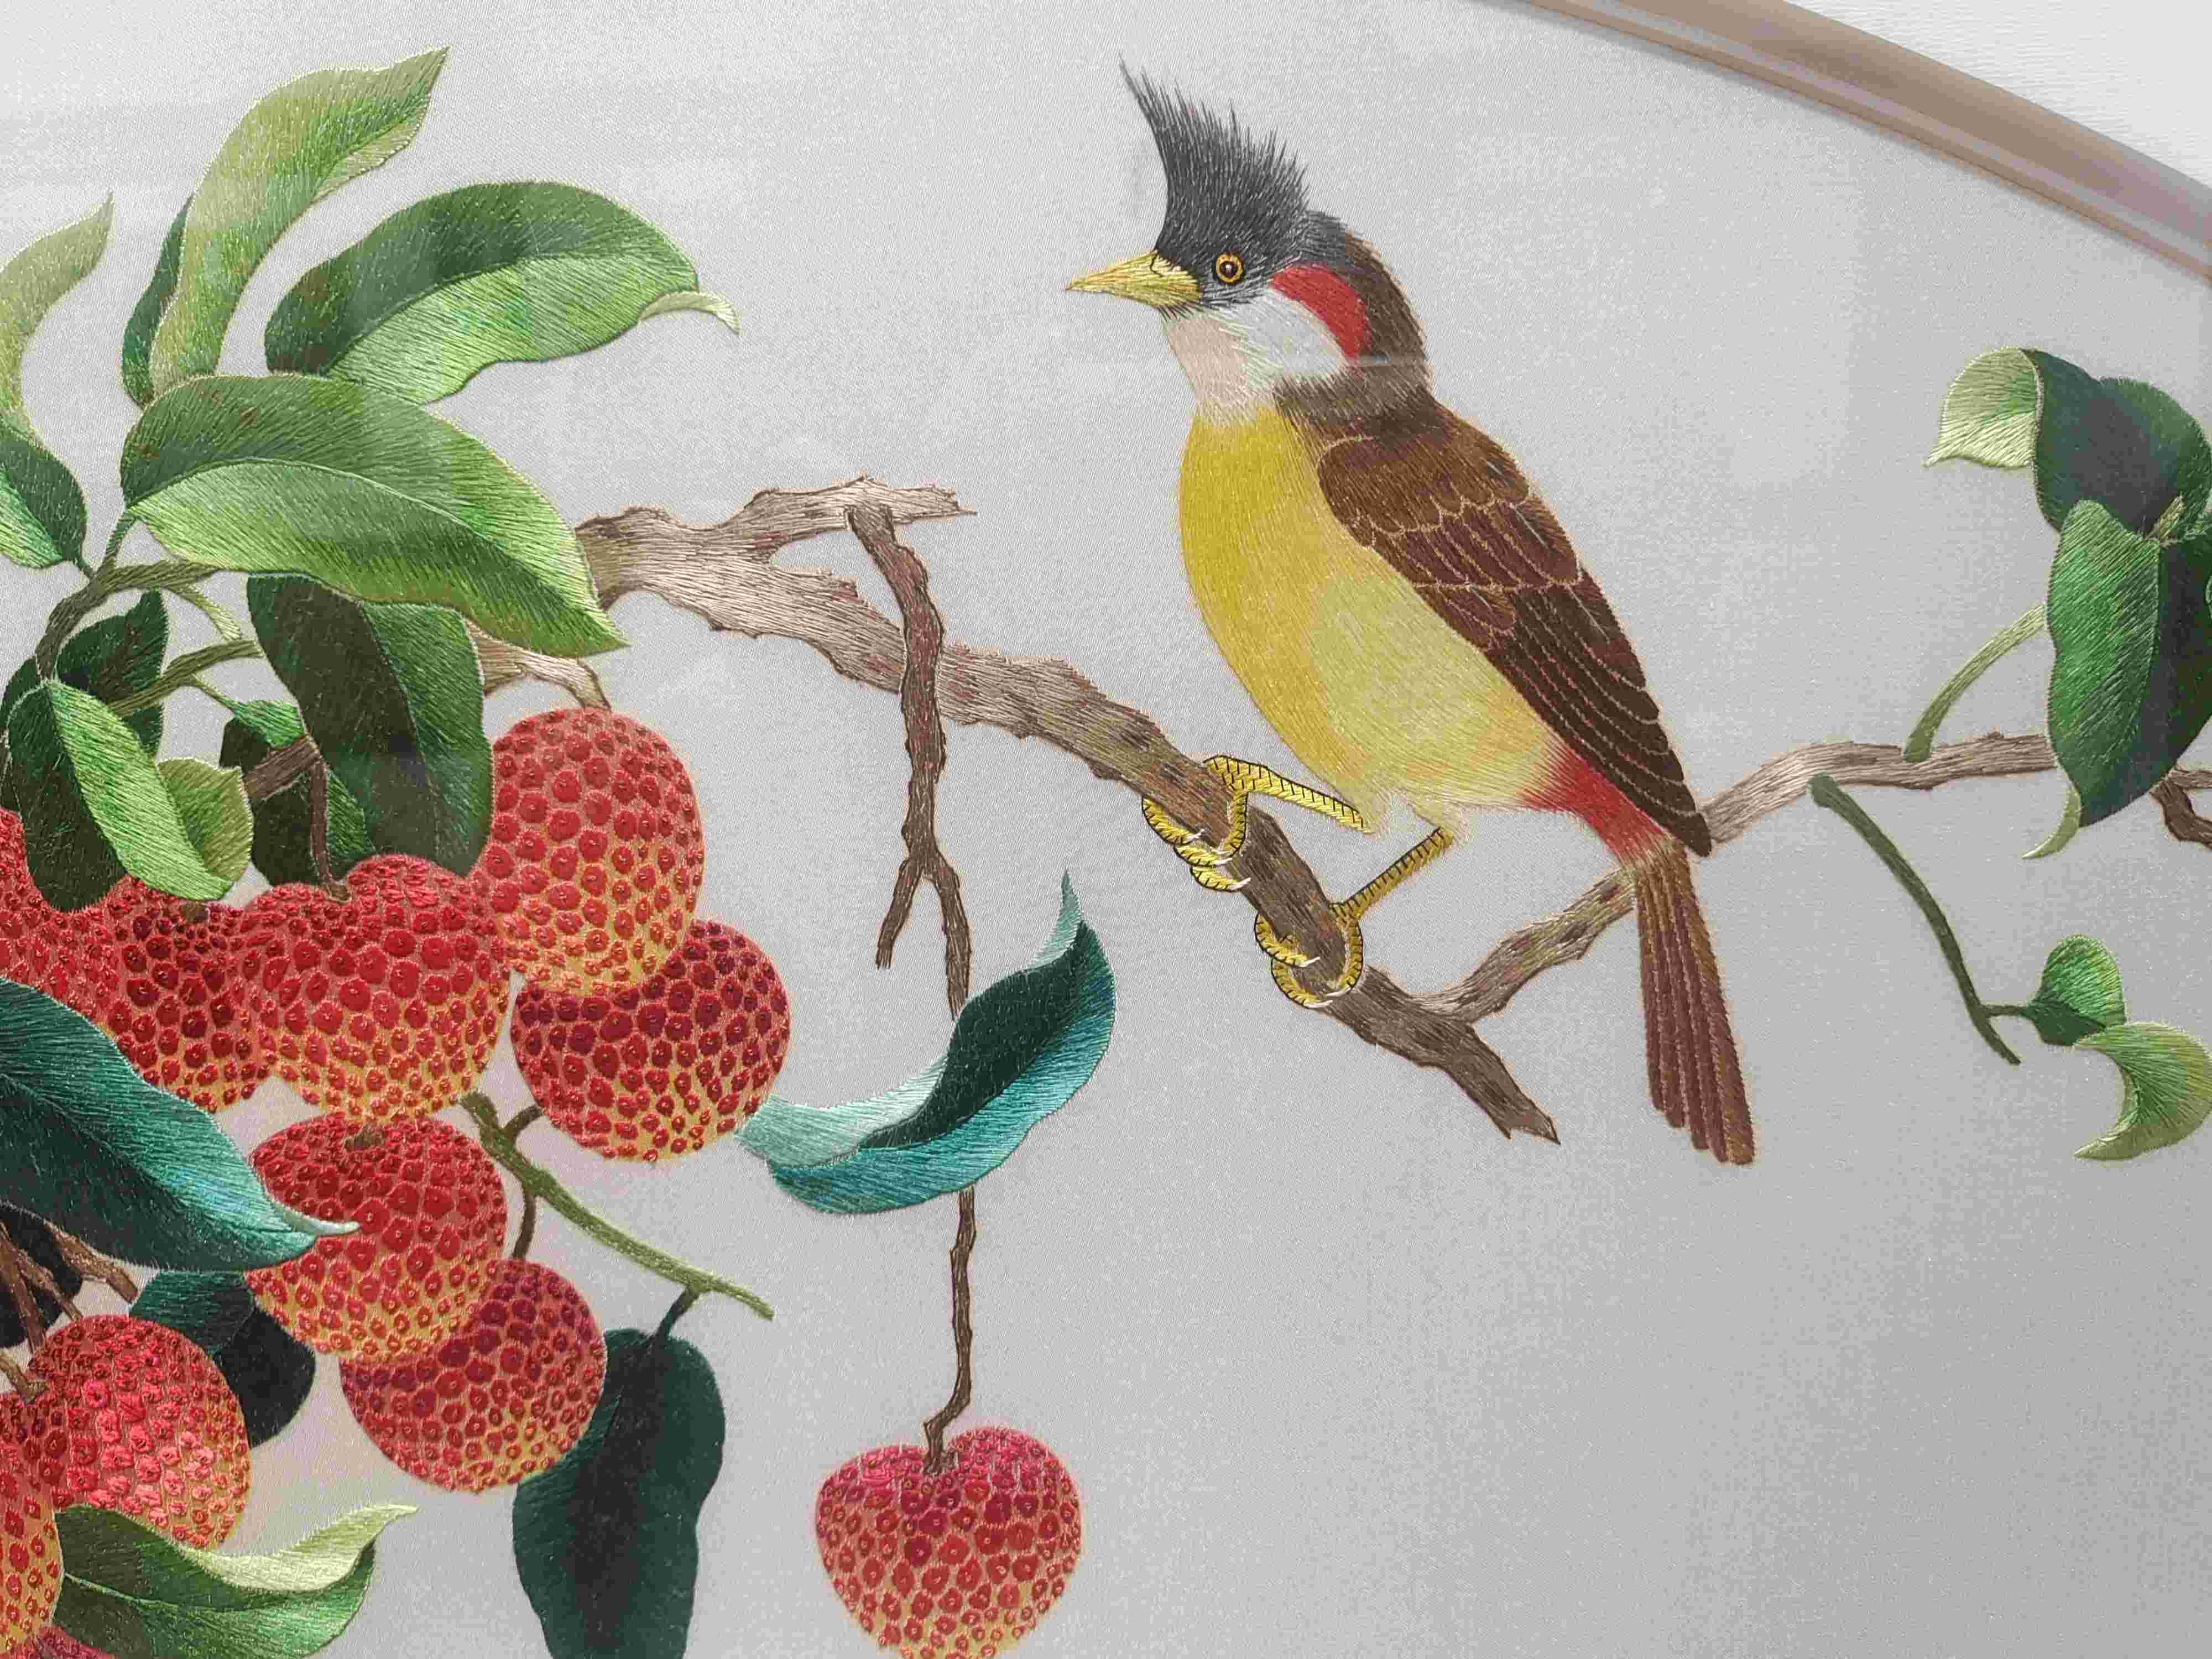bird: (1057, 80, 1773, 1171)
lychee: (228, 852, 514, 1115), (460, 702, 705, 986), (509, 917, 789, 1162), (242, 1105, 510, 1352), (338, 1255, 608, 1492), (813, 1425, 1080, 1659), (19, 880, 287, 1112), (5, 1310, 253, 1546), (0, 809, 108, 1030), (0, 1392, 61, 1659), (0, 1621, 204, 1659)
